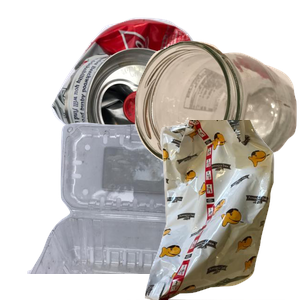glass: (132, 38, 300, 199)
metal: (48, 15, 251, 175)
plastic: (25, 120, 245, 300)
trash: (127, 120, 300, 300)
